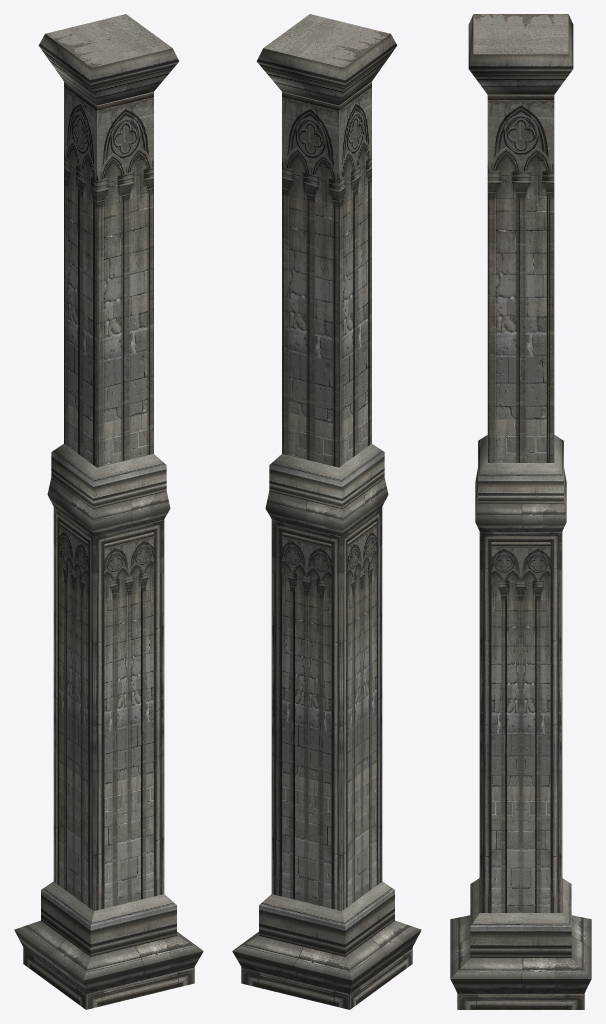
The model's file is Wall2.fbx.
The picture shows the model from 3 angles, left to right: view 1: azimuth 30°, elevation 25°; view 2: azimuth 150°, elevation 25°; view 3: azimuth 270°, elevation 25°; orthographic projection.
Parts seen in each view (by area): view 1: M4_Nigraturis_Column01I_SM_SCY; view 2: M4_Nigraturis_Column01I_SM_SCY; view 3: M4_Nigraturis_Column01I_SM_SCY.
Part boxes in pixels (x1,y1,x2,y2): M4_Nigraturis_Column01I_SM_SCY: (14, 14, 203, 1009); M4_Nigraturis_Column01I_SM_SCY: (232, 14, 421, 1009); M4_Nigraturis_Column01I_SM_SCY: (450, 14, 591, 1009).
Bounding box in the file's own units: 0.5604 × 4.15 × 0.5604.
2 materials, 2 textured.
